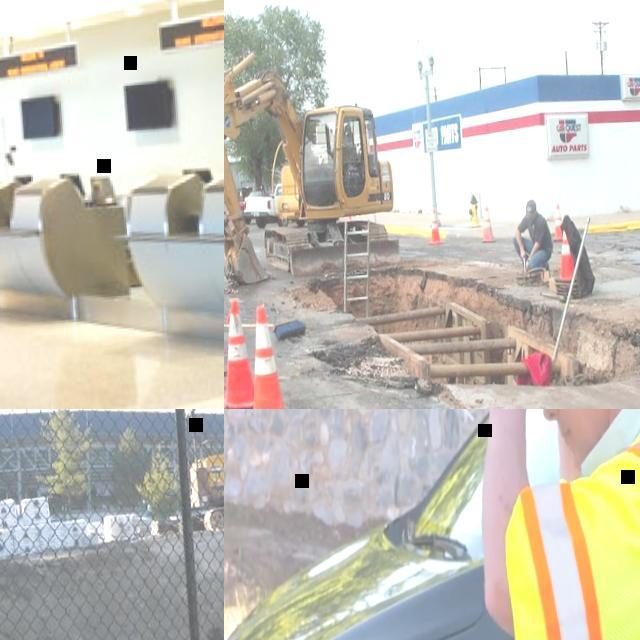Weapon: (502, 174, 584, 303)
